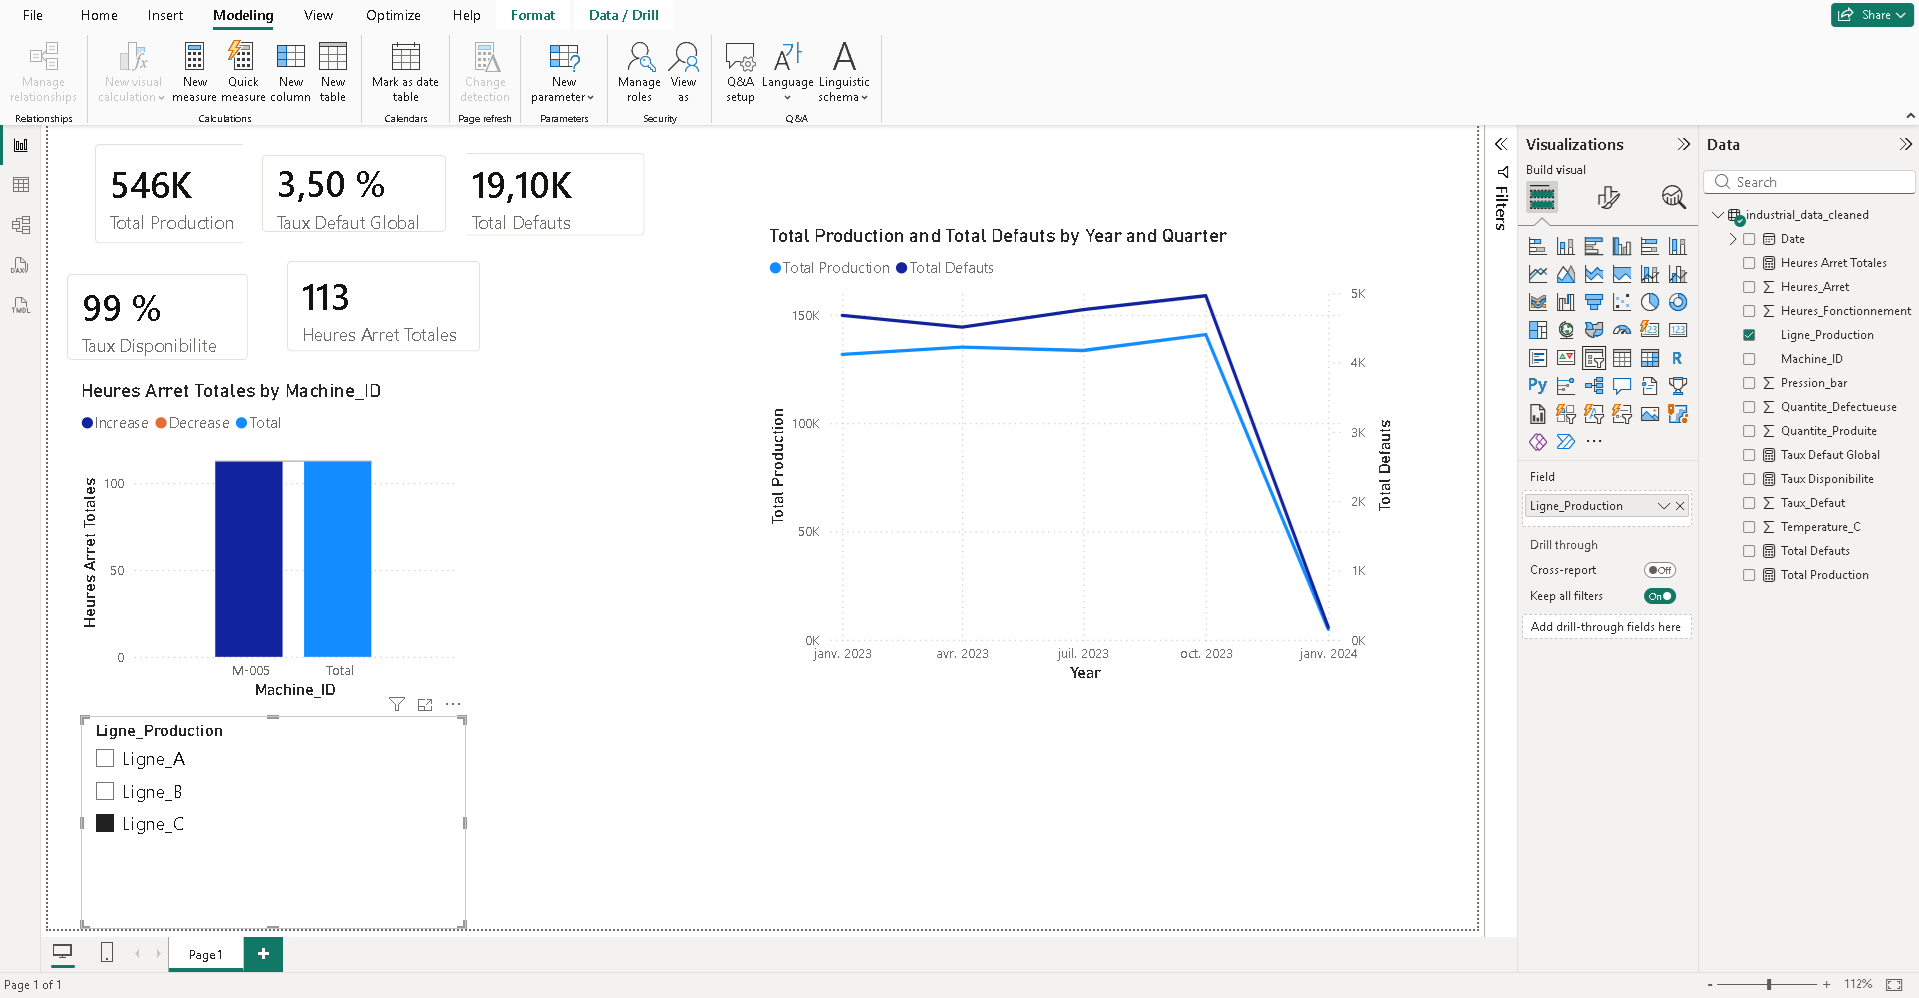

What the dashboard file says about the page in this screenshot:
{"tool":"powerbi","page":{"name":"Page 1","canvas":[1280,720],"ordinal":0},"visuals":[{"type":"cardVisual","fields":{"Data":["industrial_data_cleaned.Total Production"]},"box":[25.1,0,185.7,123.5],"z":0},{"type":"cardVisual","fields":{"Data":["industrial_data_cleaned.Taux Disponibilite"]},"box":[0,116.5,196.8,111.4],"z":1},{"type":"cardVisual","fields":{"Data":["industrial_data_cleaned.Total Defauts"]},"box":[349.4,8,202.8,108.4],"z":2},{"type":"cardVisual","fields":{"Data":["industrial_data_cleaned.Taux Defaut Global"]},"box":[174.7,10,199.8,103.4],"z":3},{"type":"cardVisual","fields":{"Data":["industrial_data_cleaned.Heures Arret Totales"]},"box":[196.8,104.4,207.8,115.5],"z":4},{"type":"lineChart","fields":{"Category":["industrial_data_cleaned.Date.Variation.Date Hierarchy.Year","industrial_data_cleaned.Date.Variation.Date Hierarchy.Quarter","industrial_data_cleaned.Date.Variation.Date Hierarchy.Month","industrial_data_cleaned.Date.Variation.Date Hierarchy.Day"],"Y":["industrial_data_cleaned.Total Production"],"Y2":["industrial_data_cleaned.Total Defauts"]},"box":[640.5,88.3,568.2,414.6],"z":5},{"type":"waterfallChart","fields":{"Category":["industrial_data_cleaned.Machine_ID"],"Y":["industrial_data_cleaned.Heures Arret Totales"]},"box":[24.1,227.9,345.3,291.1],"z":6},{"type":"slicer","fields":{"Values":["industrial_data_cleaned.Ligne_Production"]},"box":[29.1,529.1,345.3,190.7],"z":7}]}

Visuals, with their boxes on the page's 1280x720 design canvas (x1, y1, x2, y2). These are canvas units, not pixel positions in the 1919x998 screenshot, which may show the page scaled, cropped or inside an application window:
cardVisual - industrial_data_cleaned.Total Production: pyautogui.locateOnScreen(25, 0, 211, 124)
cardVisual - industrial_data_cleaned.Taux Disponibilite: pyautogui.locateOnScreen(0, 116, 197, 228)
cardVisual - industrial_data_cleaned.Total Defauts: pyautogui.locateOnScreen(349, 8, 552, 116)
cardVisual - industrial_data_cleaned.Taux Defaut Global: pyautogui.locateOnScreen(175, 10, 374, 113)
cardVisual - industrial_data_cleaned.Heures Arret Totales: pyautogui.locateOnScreen(197, 104, 405, 220)
lineChart - industrial_data_cleaned.Date.Variation.Date Hierarchy.Year x industrial_data_cleaned.Date.Variation.Date Hierarchy.Quarter: pyautogui.locateOnScreen(640, 88, 1209, 503)
waterfallChart - industrial_data_cleaned.Machine_ID x industrial_data_cleaned.Heures Arret Totales: pyautogui.locateOnScreen(24, 228, 369, 519)
slicer - industrial_data_cleaned.Ligne_Production: pyautogui.locateOnScreen(29, 529, 374, 720)
